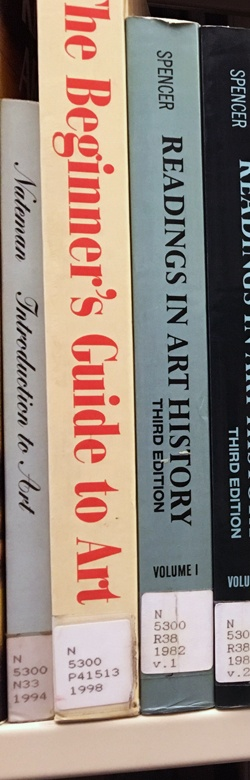call_number: (51, 625, 136, 708), (140, 593, 213, 674), (6, 637, 52, 721), (219, 602, 250, 682)
